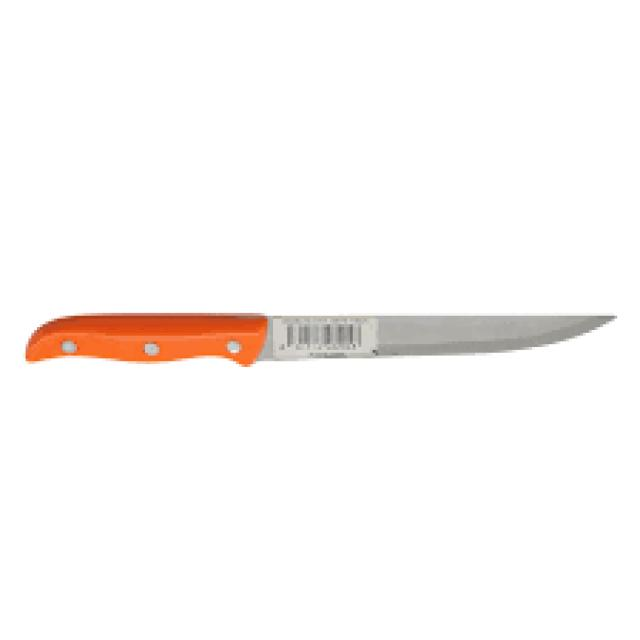knife: (24, 315, 617, 369)
